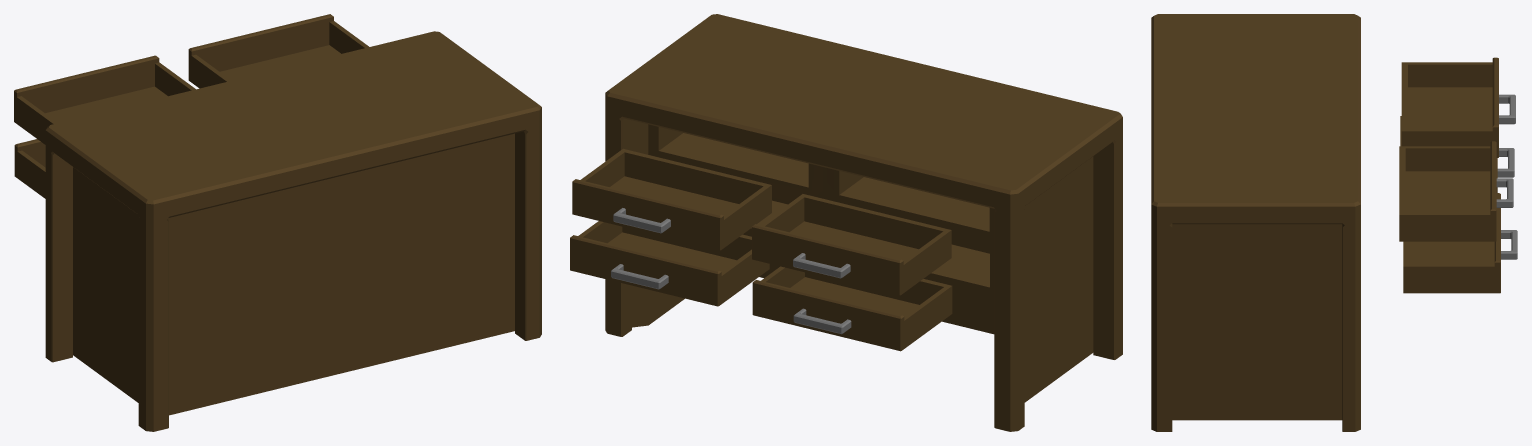
The model's file is Cabinet_drawers_2.0.fbx.
The picture shows the model from 3 angles, left to right: view 1: azimuth 30°, elevation 25°; view 2: azimuth 150°, elevation 25°; view 3: azimuth 270°, elevation 25°; orthographic projection. The views are drawn at different scales.
Parts seen in each view (by area): view 1: Mesh_Desk, Mesh_Drawer3, Mesh_Drawer2, Mesh_Drawer4; view 2: Mesh_Desk, Mesh_Drawer3, Mesh_Drawer2, Mesh_Drawer4, Mesh_Drawer1; view 3: Mesh_Desk, Mesh_Drawer2, Mesh_Drawer3, Mesh_Drawer1, Mesh_Drawer4.
Part boxes in pixels (x1,y1,x2,y2): Mesh_Desk: (45, 31, 541, 431); Mesh_Drawer3: (14, 55, 195, 144); Mesh_Drawer2: (188, 14, 368, 88); Mesh_Drawer4: (14, 139, 45, 198); Mesh_Desk: (605, 14, 1122, 431); Mesh_Drawer3: (752, 194, 951, 295); Mesh_Drawer2: (572, 148, 771, 250); Mesh_Drawer4: (752, 266, 952, 351); Mesh_Drawer1: (570, 221, 769, 306); Mesh_Desk: (1151, 14, 1360, 431); Mesh_Drawer2: (1399, 141, 1513, 241); Mesh_Drawer3: (1401, 57, 1515, 157); Mesh_Drawer1: (1403, 193, 1517, 293); Mesh_Drawer4: (1400, 116, 1514, 192).
Size of the model in its own units: 4.65 by 2.58 by 3.77.
